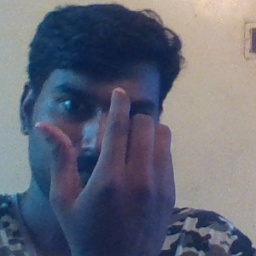U: (30, 80, 178, 245)
